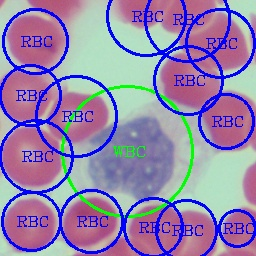RBC: (172, 9, 252, 76), (42, 84, 114, 148), (0, 120, 64, 192), (156, 48, 224, 112), (196, 84, 253, 156), (54, 192, 122, 252), (0, 192, 62, 255), (122, 199, 190, 255), (4, 12, 68, 68), (0, 63, 56, 126), (164, 206, 220, 255), (154, 0, 220, 37), (216, 202, 255, 254)
WBC: (60, 100, 212, 206)
